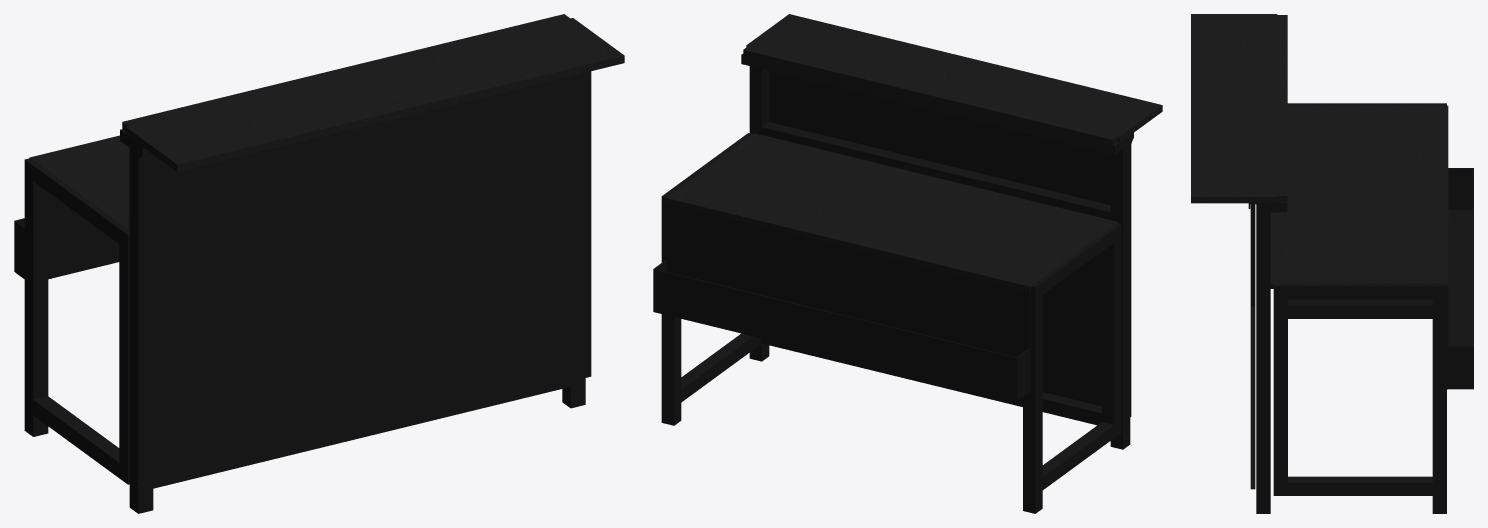
The model's file is BarModel.glb.
3 renders of one model, left to right at view 1: azimuth 30°, elevation 25°; view 2: azimuth 150°, elevation 25°; view 3: azimuth 270°, elevation 25°, orthographic. The views are drawn at different scales.
Visible parts, largest first — view 1: PLANSZA.004, SZUFLADA.007; view 2: SZUFLADA.007, PLANSZA.004; view 3: SZUFLADA.007, PLANSZA.004.
Part boxes in pixels (x1,y1,x2,y2): PLANSZA.004: (141, 71, 591, 485); SZUFLADA.007: (14, 14, 624, 513); SZUFLADA.007: (653, 14, 1162, 513); PLANSZA.004: (769, 71, 1131, 416); SZUFLADA.007: (1191, 14, 1473, 513); PLANSZA.004: (1250, 204, 1255, 489).
Size of the model in its own units: 1.51 by 1.21 by 0.979.
Materials: 4 (4 with a texture image).
